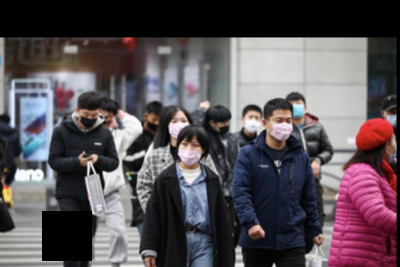with_mask: (177, 138, 203, 166), (267, 114, 293, 140), (167, 115, 191, 140), (78, 109, 100, 129), (244, 113, 263, 132), (288, 99, 305, 119), (384, 109, 397, 129), (146, 115, 161, 131), (215, 119, 230, 134)
